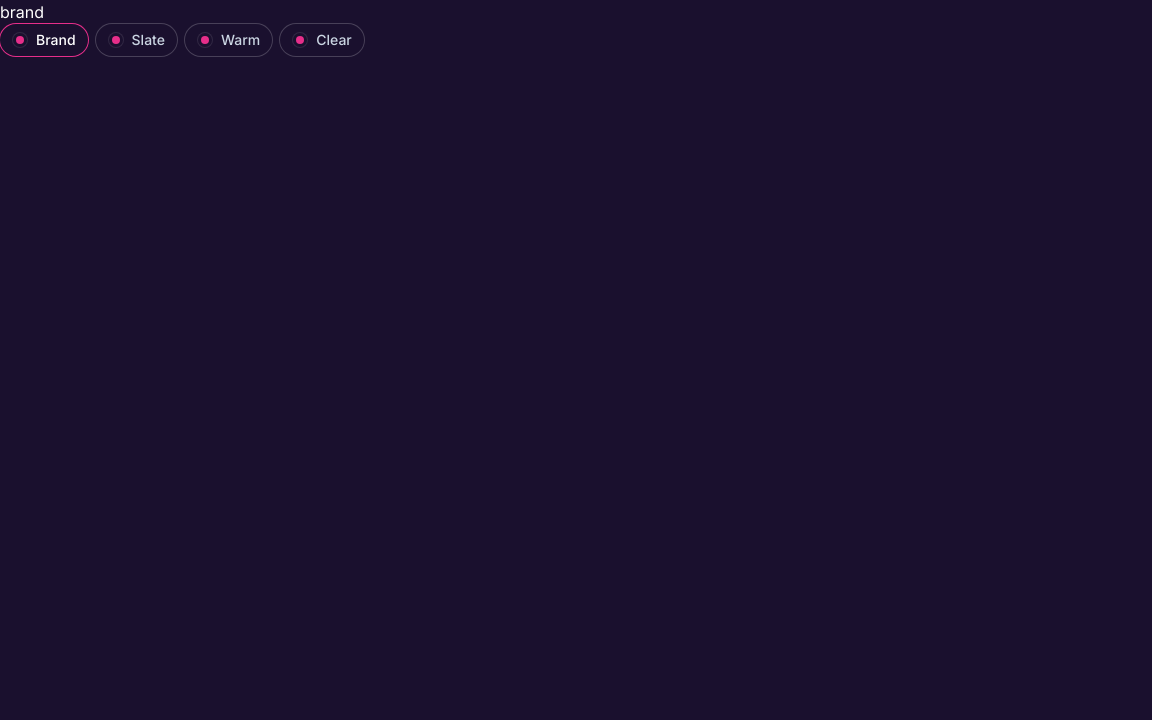
Test: theme (the palette axis) › picks a theme: applies data-theme, persists, and marks it pressed
Step 1. Click the button with aria-label "Theme: Warm" → (229, 40), box x1=185 y1=24 x2=272 y2=56
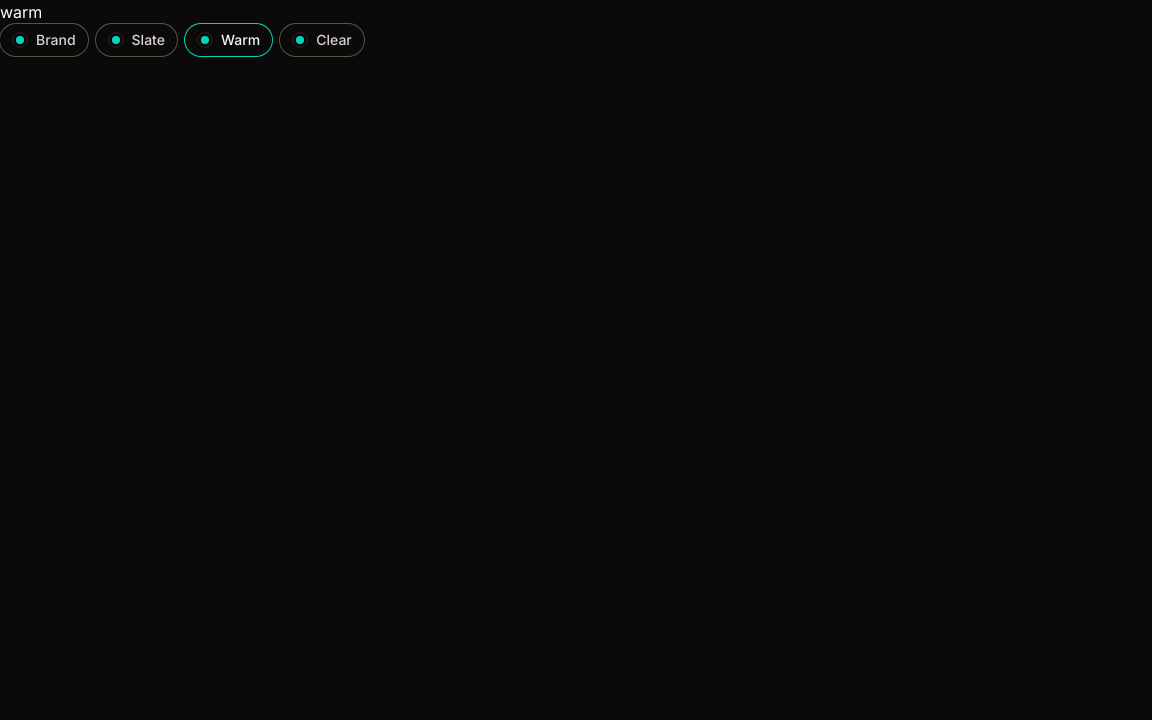
Now the text with test id "theme" reads "warm", box x1=0 y1=2 x2=42 y2=22
